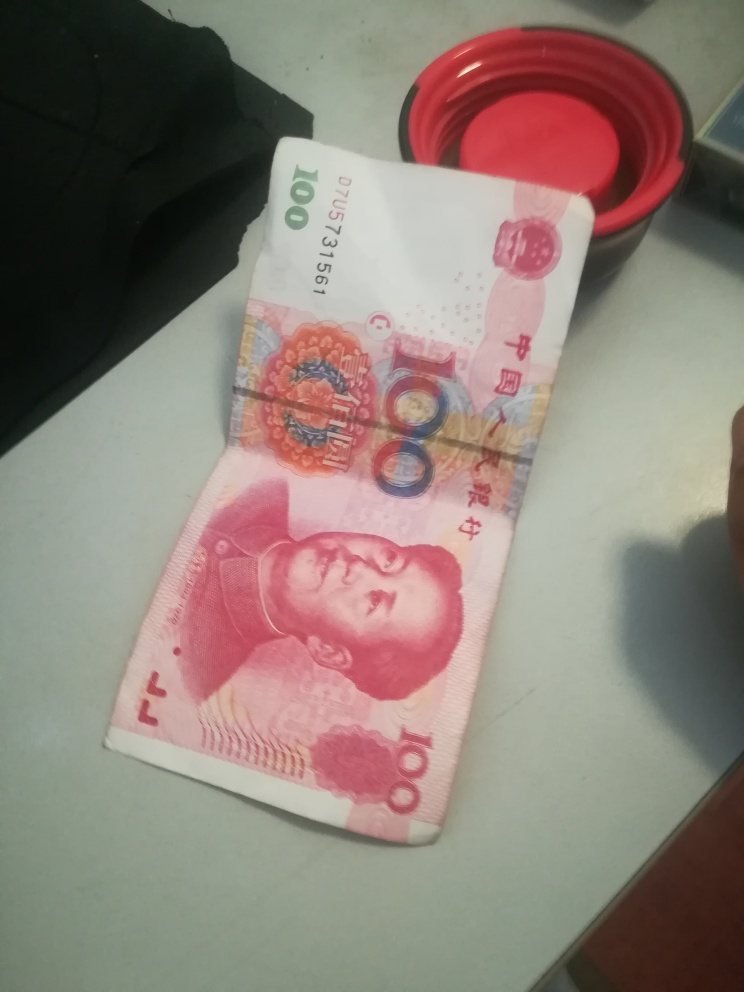rmb: (100, 131, 600, 849)
